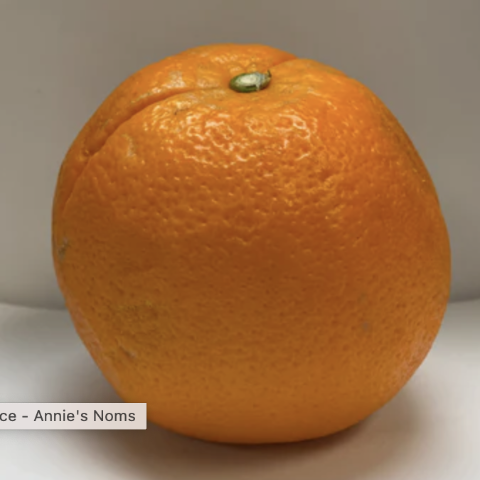orange: (19, 19, 472, 445)
